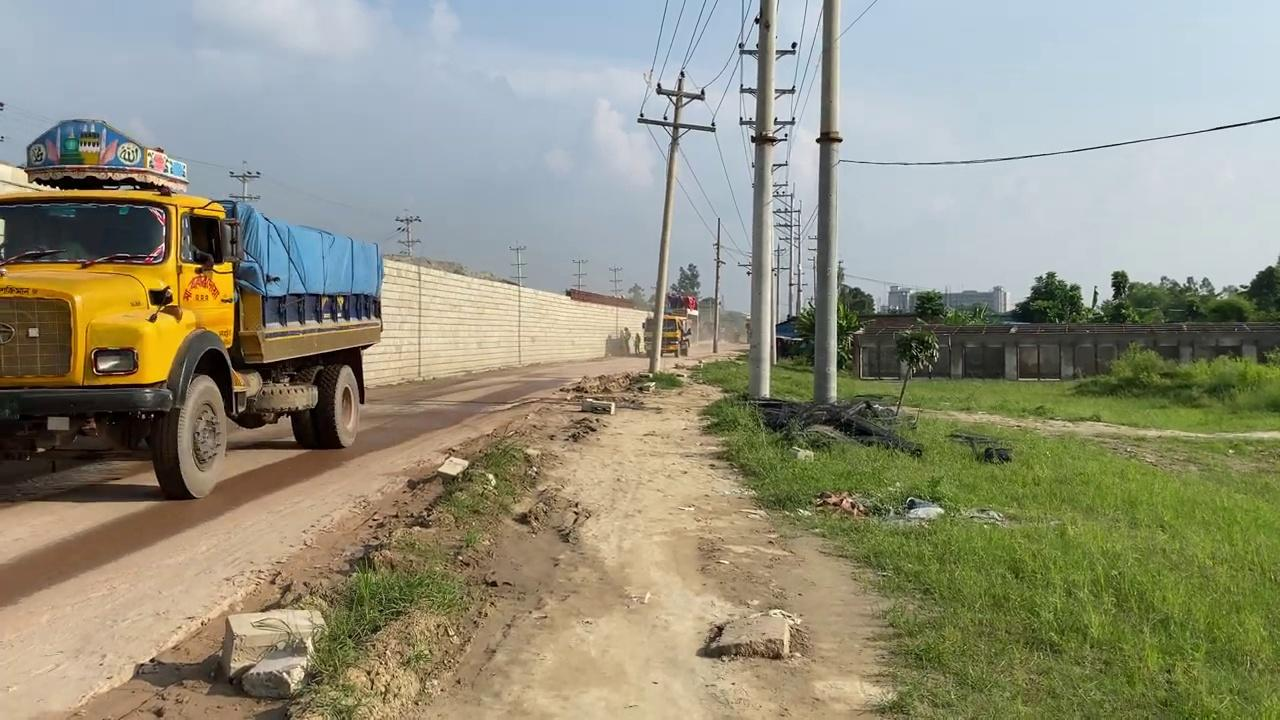Garbage: (744, 394, 923, 458)
Muddy road: (0, 341, 735, 718)
Obstacle: (580, 397, 615, 414)
Pole: (636, 69, 716, 373), (746, 0, 778, 399), (812, 0, 842, 404)
Rickshaw: (414, 357, 901, 718)
Traffic-sign: (892, 324, 939, 379), (675, 262, 700, 298)
Tree: (0, 116, 384, 500), (642, 312, 691, 357), (662, 292, 696, 356)
Upstairs: (361, 255, 658, 387)
